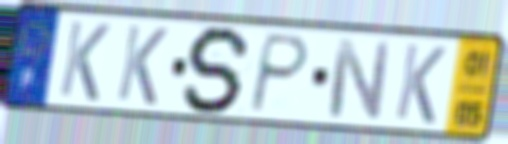K: (113, 22, 171, 109), (56, 18, 114, 105), (392, 41, 450, 128)
N: (325, 36, 393, 123)
P: (245, 30, 313, 115)
S: (180, 23, 256, 117)
